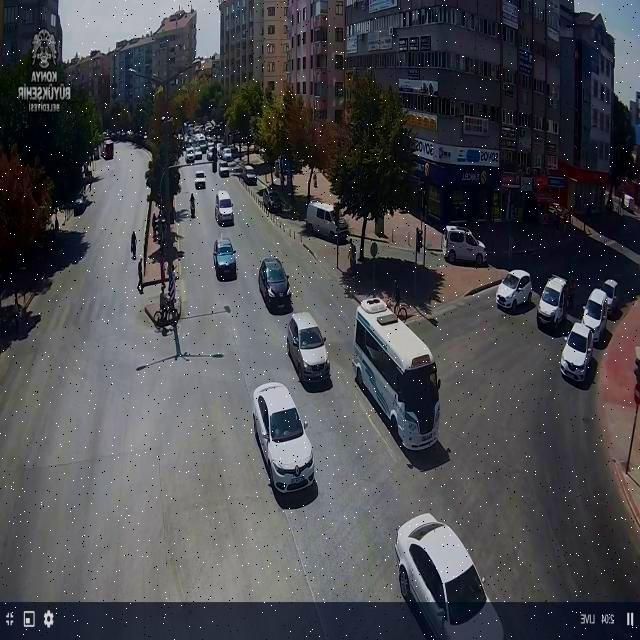Bus: (350, 295, 442, 451)
Car: (394, 513, 497, 638), (251, 381, 316, 495), (287, 311, 330, 385), (560, 323, 596, 383), (258, 256, 292, 310), (442, 225, 485, 266), (580, 288, 612, 343), (536, 276, 570, 326), (496, 269, 532, 311), (213, 236, 237, 280), (214, 190, 234, 225), (600, 279, 620, 314), (263, 188, 283, 212), (242, 167, 257, 185), (194, 171, 206, 189), (218, 162, 230, 177)
Van: (304, 200, 349, 242)
